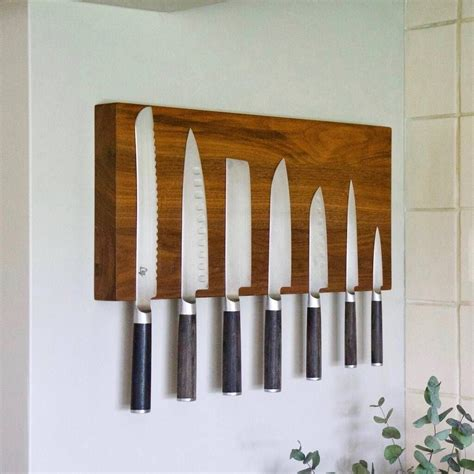knife: (132, 103, 159, 417), (180, 126, 207, 403), (262, 155, 293, 393), (225, 158, 252, 396), (307, 186, 329, 381), (346, 180, 360, 368), (372, 227, 384, 366)
